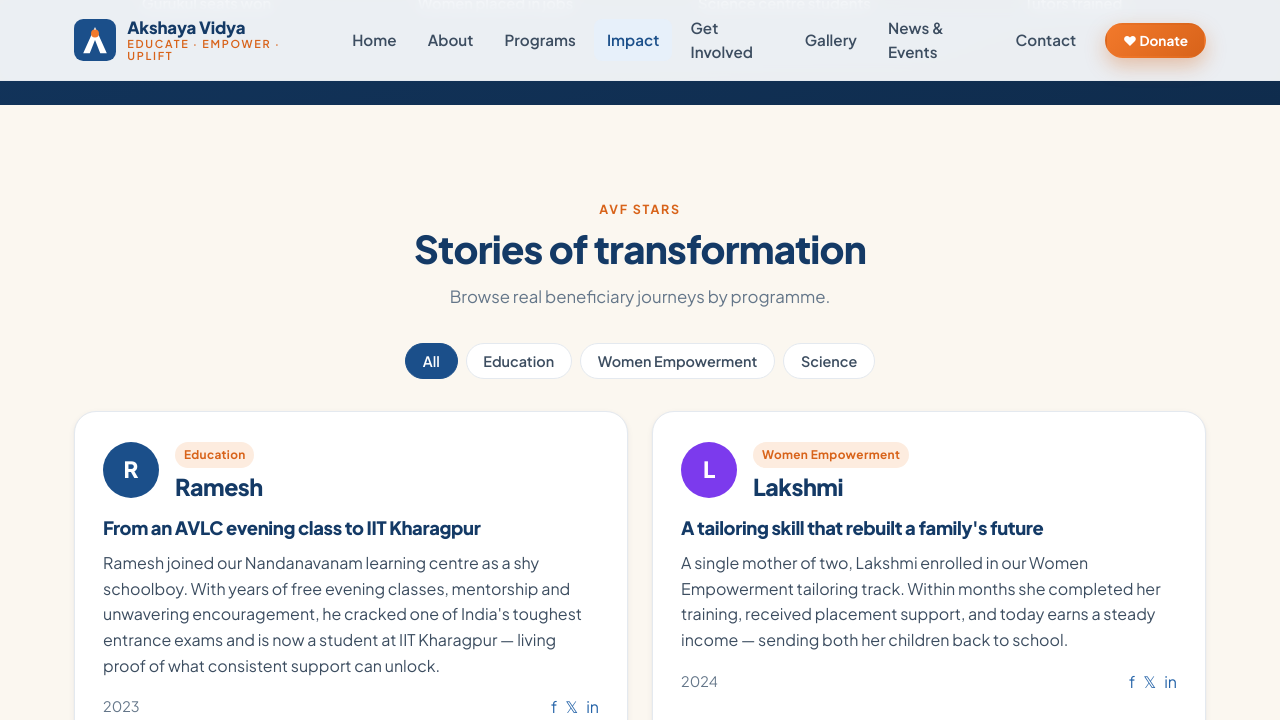
Scenario: Impact page › filters AVF Stars by programme vertical (IMP-04)
(page scrolled)
Click the tab "Women Empowerment" at (678, 360), box [580, 342, 775, 378]
(page scrolled)
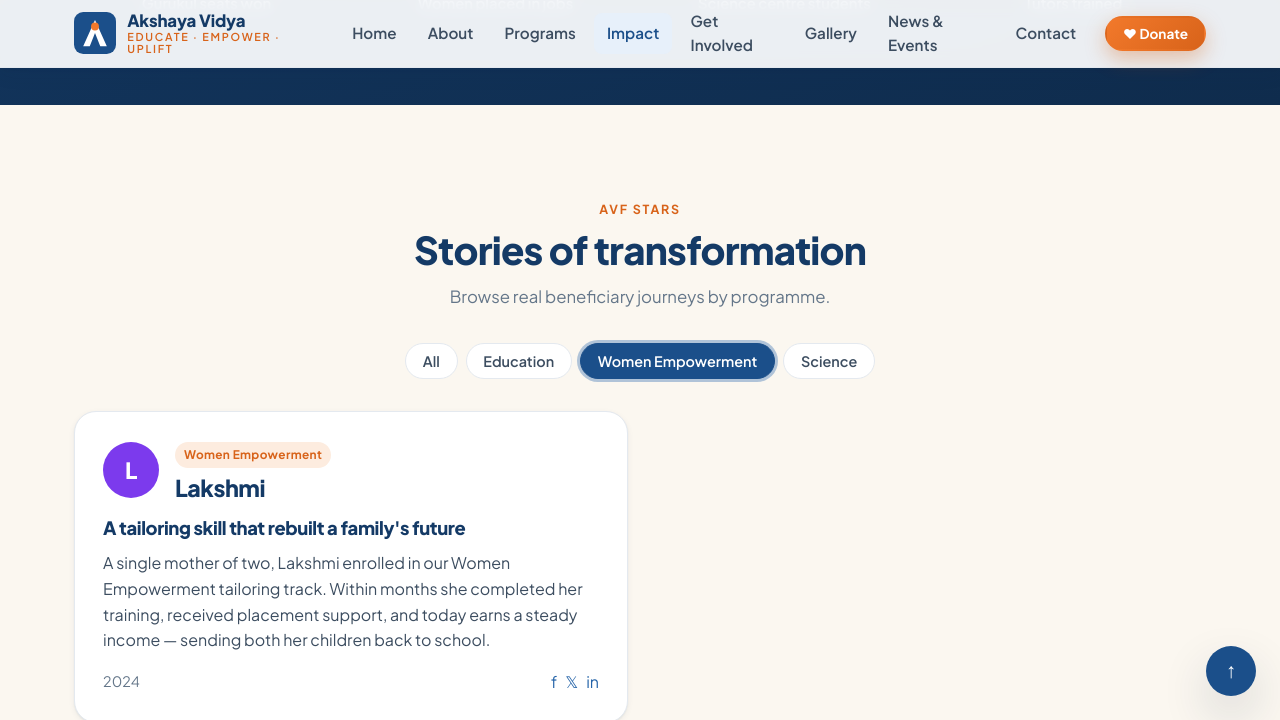
Expected: the heading "A tailoring skill that rebuilt a family's future" is shown, [103, 516, 465, 539]
Now the heading "From an AVLC evening class to IIT Kharagpur" is gone
